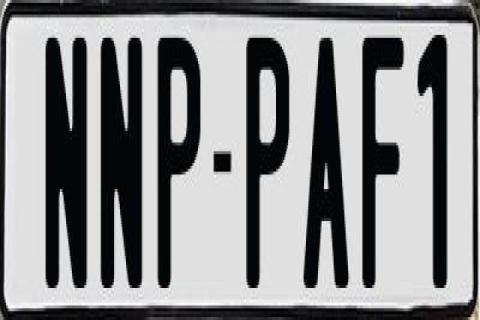0: (414, 35, 446, 305)
A: (304, 29, 356, 282)
F: (358, 35, 402, 291)
N: (46, 32, 92, 291), (98, 35, 142, 303)
P: (158, 35, 206, 303), (244, 29, 286, 291)
